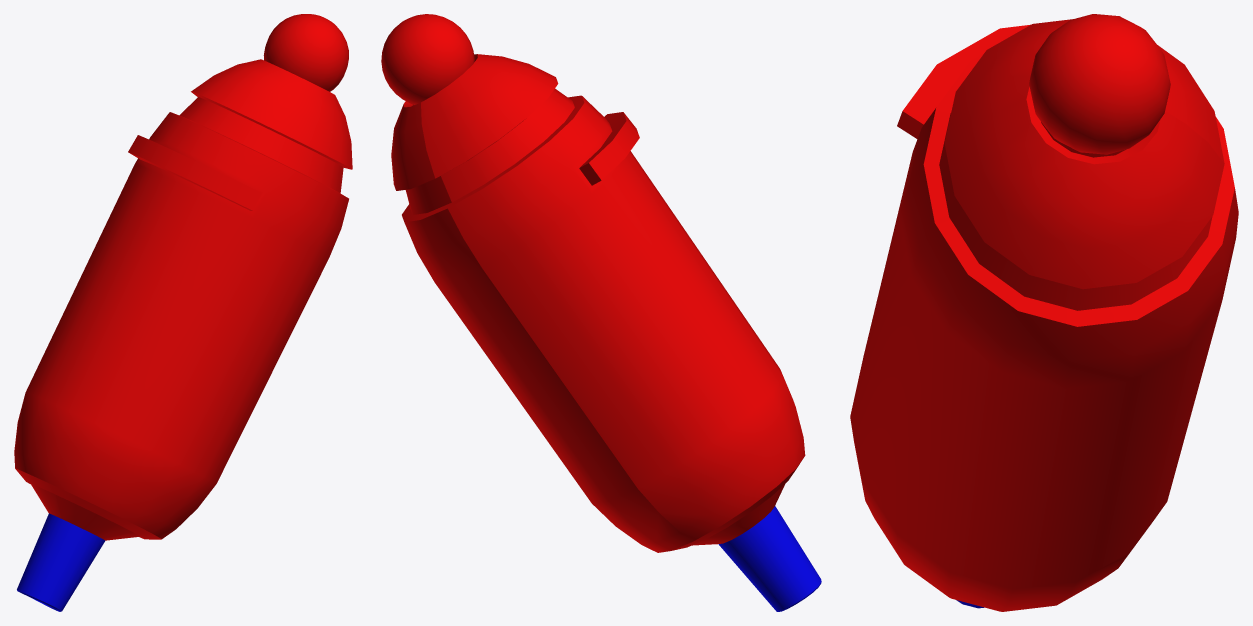
The model's file is laser_001.fbx.
The picture shows the model from 3 angles, left to right: view 1: azimuth 30°, elevation 25°; view 2: azimuth 150°, elevation 25°; view 3: azimuth 270°, elevation 25°; orthographic projection. The views are drawn at different scales.
Parts seen in each view (by area): view 1: polySurface8, polySurface7; view 2: polySurface8, polySurface7; view 3: polySurface8, polySurface7.
Boxes of the visible parts, <box> form: polySurface8: <box>14,59,352,611</box>; polySurface7: <box>263,14,348,91</box>; polySurface8: <box>391,54,821,611</box>; polySurface7: <box>381,14,474,104</box>; polySurface8: <box>850,19,1238,611</box>; polySurface7: <box>1029,14,1170,154</box>.
Bounding box in the file's own units: 35.48 × 46.88 × 20.17.
